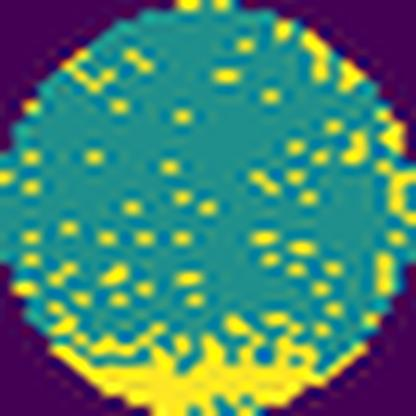Edge-Loc: (44, 309, 370, 416)
